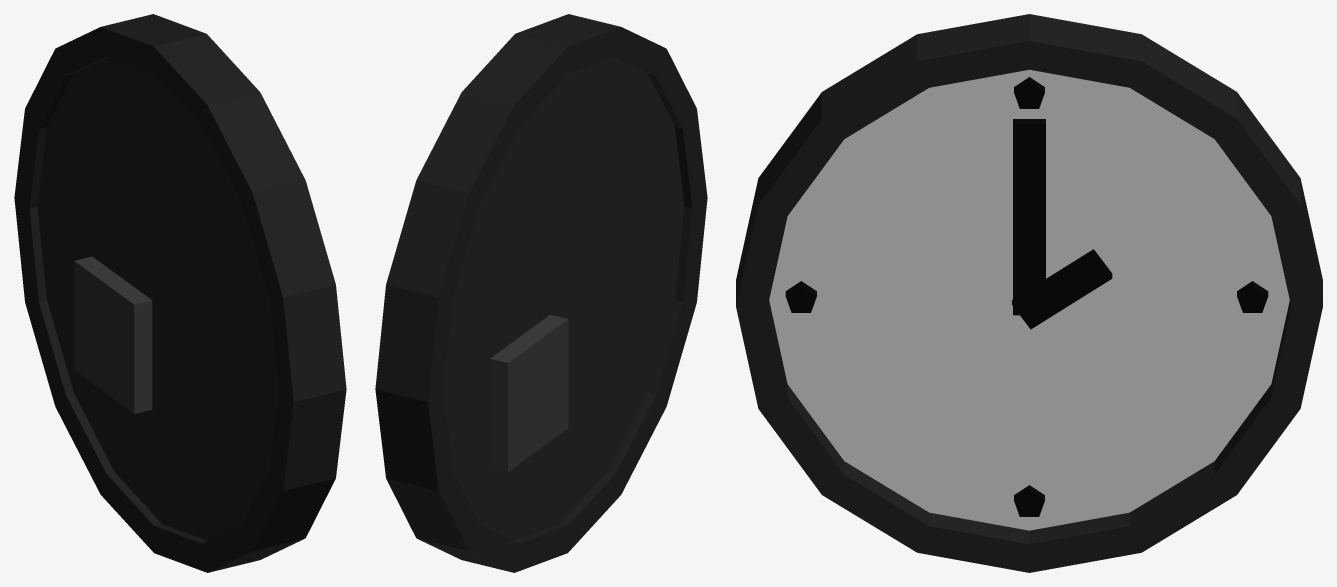
Rendered from SM_Clock_01.glb.
3 views of the same model, side by side, from view 1: azimuth 30°, elevation 25°; view 2: azimuth 150°, elevation 25°; view 3: azimuth 270°, elevation 25° (orthographic). The views are drawn at different scales.
Visible parts, largest first — view 1: SM_Clock_01; view 2: SM_Clock_01; view 3: SM_Clock_01.
Part boxes in pixels (<box>): SM_Clock_01: <box>14,14,346,572</box>; SM_Clock_01: <box>375,14,707,572</box>; SM_Clock_01: <box>736,14,1322,572</box>.
Size of the model in its own units: 0.0765 by 0.5891 by 0.5891.
1 material, 1 textured.
